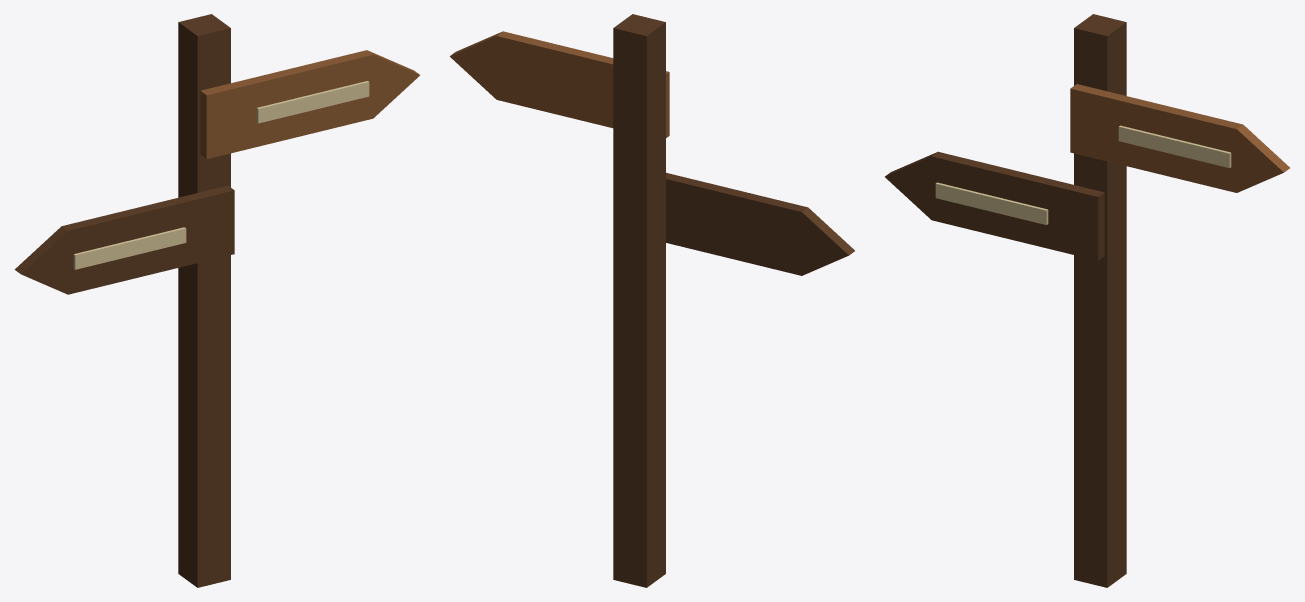
The model's file is mine_sign_arrow.glb.
3 renders of one model, left to right at view 1: azimuth 30°, elevation 25°; view 2: azimuth 150°, elevation 25°; view 3: azimuth 330°, elevation 25°, orthographic.
Parts seen in each view (by area): view 1: mine_sign_arrow; view 2: mine_sign_arrow; view 3: mine_sign_arrow.
Boxes of the visible parts, x1,y1,x2,y2 form: mine_sign_arrow: [14, 14, 420, 587]; mine_sign_arrow: [450, 14, 854, 587]; mine_sign_arrow: [885, 14, 1289, 587].
Bounding box in the file's own units: 1.44 × 1.9 × 0.17.
